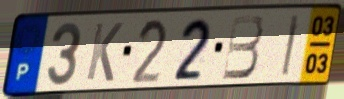2: (170, 13, 215, 85), (128, 17, 172, 85)
3: (45, 20, 82, 88)
B: (220, 13, 265, 82)
I: (279, 12, 303, 78)
K: (83, 21, 125, 84)
